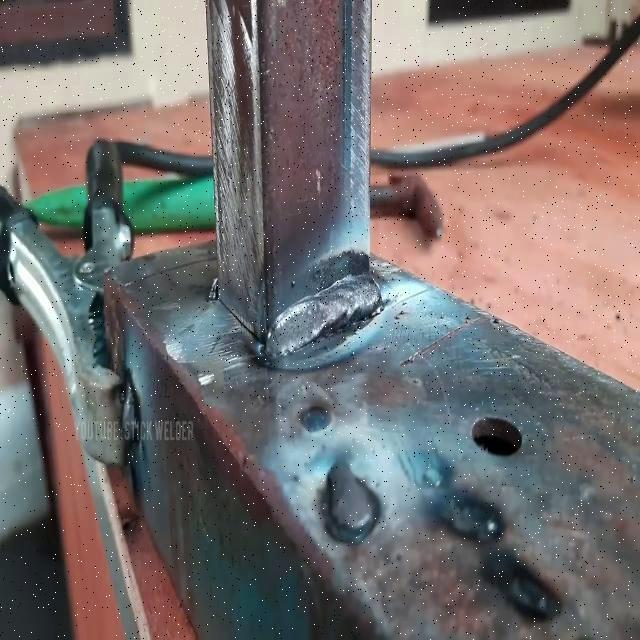Bad Welding: (263, 270, 381, 371)
